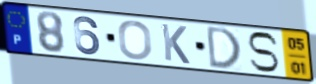6: (72, 15, 102, 57)
8: (35, 10, 67, 55)
D: (205, 24, 243, 70)
K: (160, 22, 192, 67)
O: (117, 19, 154, 61)
S: (245, 30, 281, 74)
